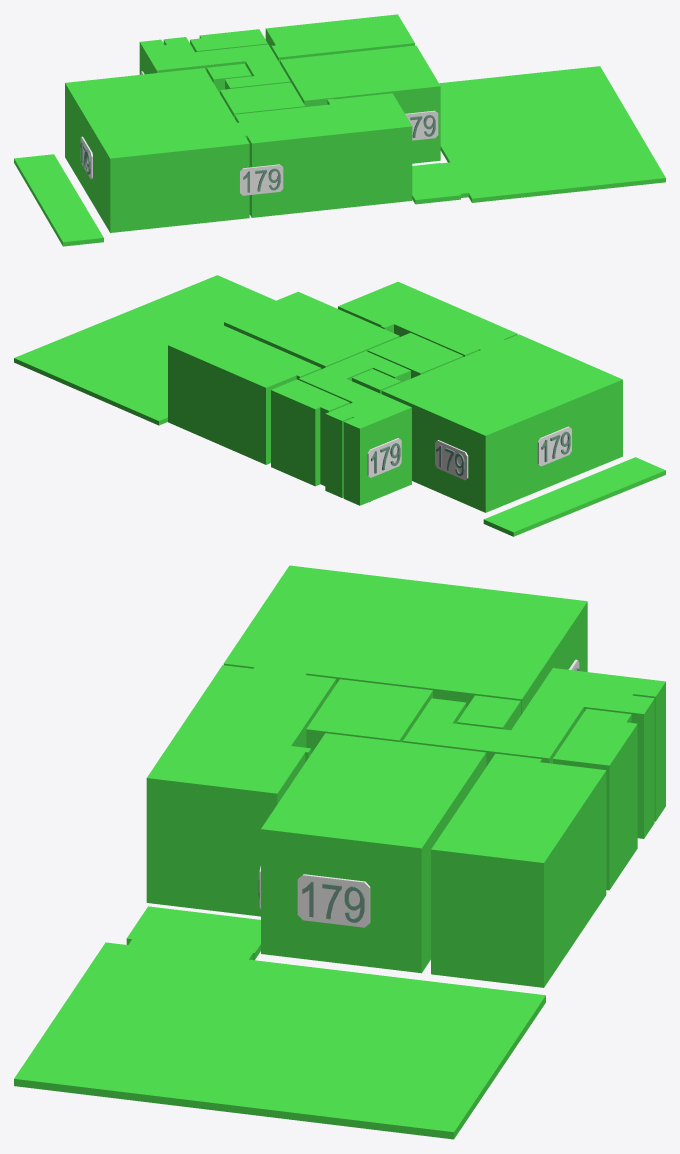
3 renders of one model, top to bottom at view 1: azimuth 30°, elevation 25°; view 2: azimuth 150°, elevation 25°; view 3: azimuth 270°, elevation 25°, orthographic. The views are drawn at different scales.
Parts seen in each view (by area): view 1: g_9, g_7, g_2, g_1, g_0, g_5, g_8, g_3, g_6, g_13, g_4, g_29; view 2: g_7, g_9, g_0, g_5, g_1, g_2, g_6, g_8, g_3, g_21, g_33, g_25 (+1 smaller); view 3: g_9, g_1, g_7, g_0, g_2, g_5, g_6, g_3, g_17, g_4.
Part boxes in pixels (bbox=[...]): g_9: bbox=[412, 66, 665, 204]; g_7: bbox=[65, 68, 249, 232]; g_2: bbox=[234, 93, 412, 217]; g_1: bbox=[280, 45, 440, 163]; g_0: bbox=[265, 14, 414, 63]; g_5: bbox=[139, 37, 290, 89]; g_8: bbox=[14, 154, 103, 246]; g_3: bbox=[220, 82, 305, 117]; g_6: bbox=[190, 29, 267, 52]; g_13: bbox=[239, 164, 283, 195]; g_4: bbox=[206, 63, 251, 93]; g_29: bbox=[405, 110, 438, 140]; g_7: bbox=[381, 334, 622, 512]; g_9: bbox=[14, 275, 275, 425]; g_0: bbox=[168, 324, 321, 464]; g_5: bbox=[298, 351, 411, 505]; g_1: bbox=[224, 291, 399, 369]; g_2: bbox=[338, 281, 517, 356]; g_6: bbox=[271, 379, 349, 486]; g_8: bbox=[483, 457, 665, 536]; g_3: bbox=[367, 333, 463, 378]; g_21: bbox=[537, 426, 571, 466]; g_33: bbox=[367, 438, 401, 477]; g_25: bbox=[435, 440, 468, 480]; g_9: bbox=[14, 906, 545, 1139]; g_1: bbox=[261, 733, 486, 973]; g_7: bbox=[223, 565, 587, 714]; g_0: bbox=[431, 753, 606, 987]; g_2: bbox=[146, 665, 336, 916]; g_5: bbox=[403, 668, 665, 838]; g_6: bbox=[553, 709, 637, 890]; g_3: bbox=[306, 679, 432, 753]; g_17: bbox=[297, 874, 370, 927]; g_4: bbox=[457, 695, 520, 730].
Size of the model in its own units: 21.12 by 2.74 by 12.19.
